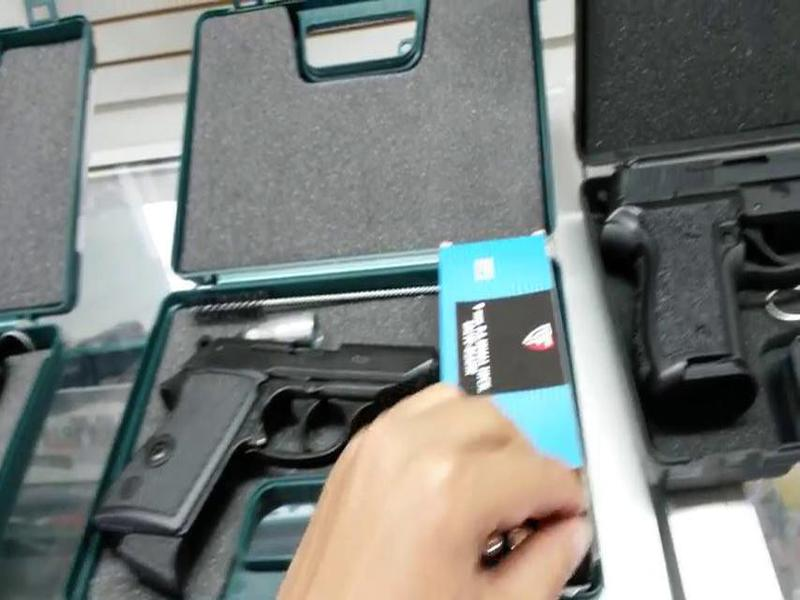Pistola: (95, 314, 465, 572)
